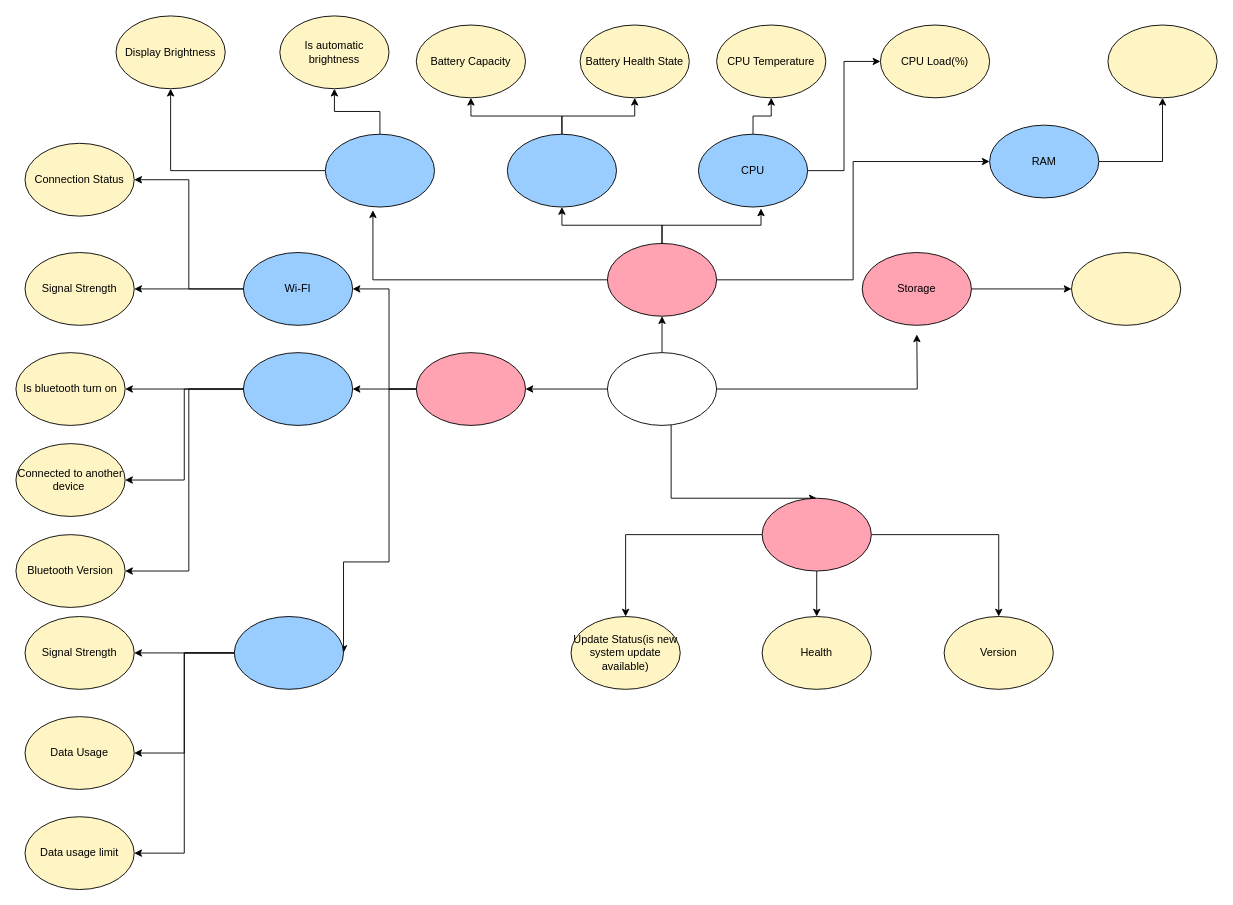
Image size: 1233x905. Some labels were removed from this diagram. The box of each missing label's shape, as (x1, y1, x2, y2) in pixels:
Battery: (506, 133, 617, 207)
Bluetooth: (243, 352, 353, 425)
Celluar: (233, 616, 344, 689)
Connectivity: (415, 352, 526, 425)
Display: (324, 133, 435, 207)
Hardware: (607, 243, 717, 316)
IPhone: (607, 352, 717, 425)
Operating System: (761, 497, 871, 571)
RAM Usage(%): (1107, 24, 1217, 98)
Storage Usage %: (1071, 252, 1181, 325)
